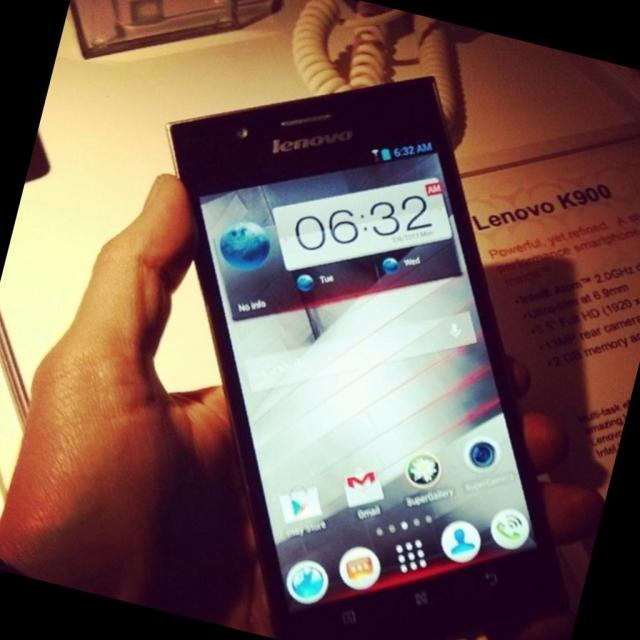handphone: (180, 84, 563, 640)
